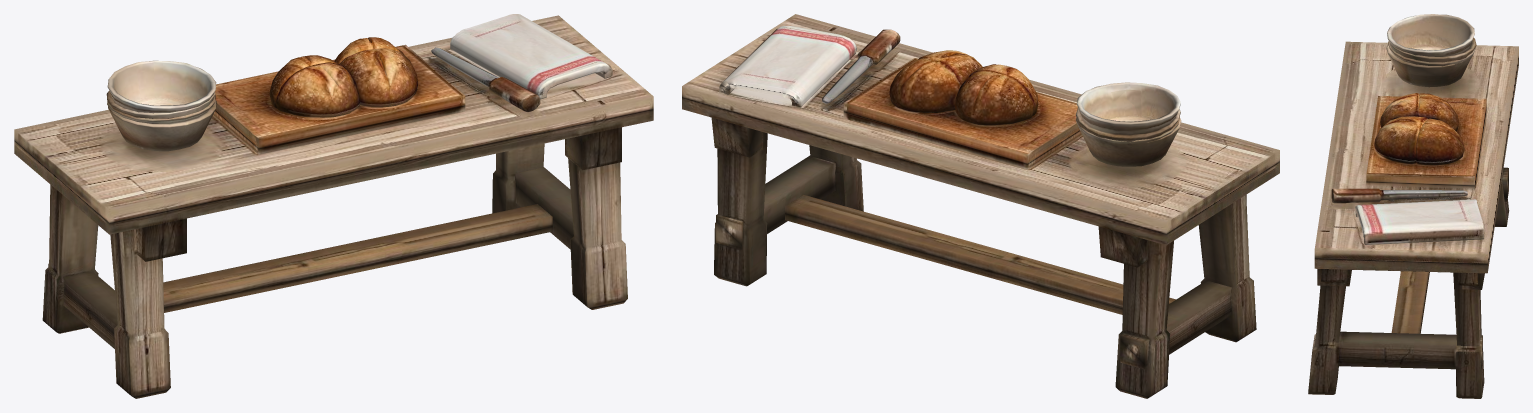
File: act1-a24-1-kitchen-table.glb
3 views of the same model, side by side, from view 1: azimuth 30°, elevation 25°; view 2: azimuth 150°, elevation 25°; view 3: azimuth 270°, elevation 25° (orthographic). The views are drawn at different scales.
Visible parts, largest first — view 1: act1-a24-1-kitchen-table; view 2: act1-a24-1-kitchen-table; view 3: act1-a24-1-kitchen-table.
Part boxes in pixels (bbox=[...]): act1-a24-1-kitchen-table: bbox=[14, 14, 653, 398]; act1-a24-1-kitchen-table: bbox=[682, 14, 1279, 398]; act1-a24-1-kitchen-table: bbox=[1308, 14, 1518, 398].
Bounding box in the file's own units: 2.4 × 1.11 × 1.01.
1 material, 1 textured.
